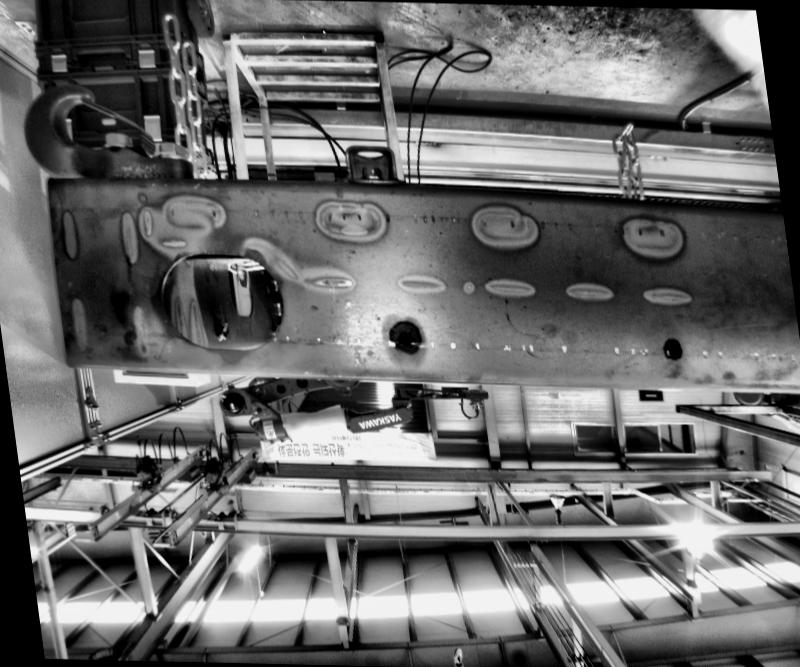bolt: (355, 163, 386, 178)
bracket: (323, 140, 409, 181)
hole: (146, 249, 292, 352), (395, 330, 415, 347), (666, 341, 680, 354)
